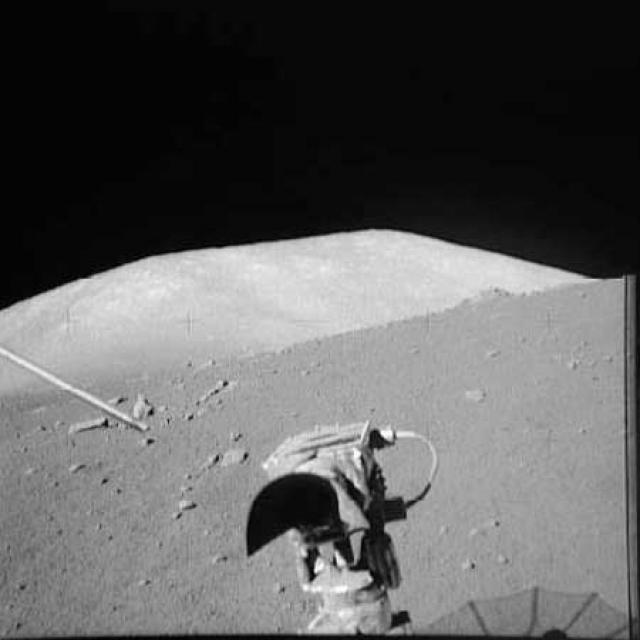artifact: (240, 414, 446, 636), (0, 343, 151, 438)
rock: (446, 282, 516, 310), (190, 375, 238, 407), (59, 411, 110, 437), (202, 449, 247, 474), (457, 383, 495, 410), (128, 391, 154, 422), (101, 388, 126, 406)
